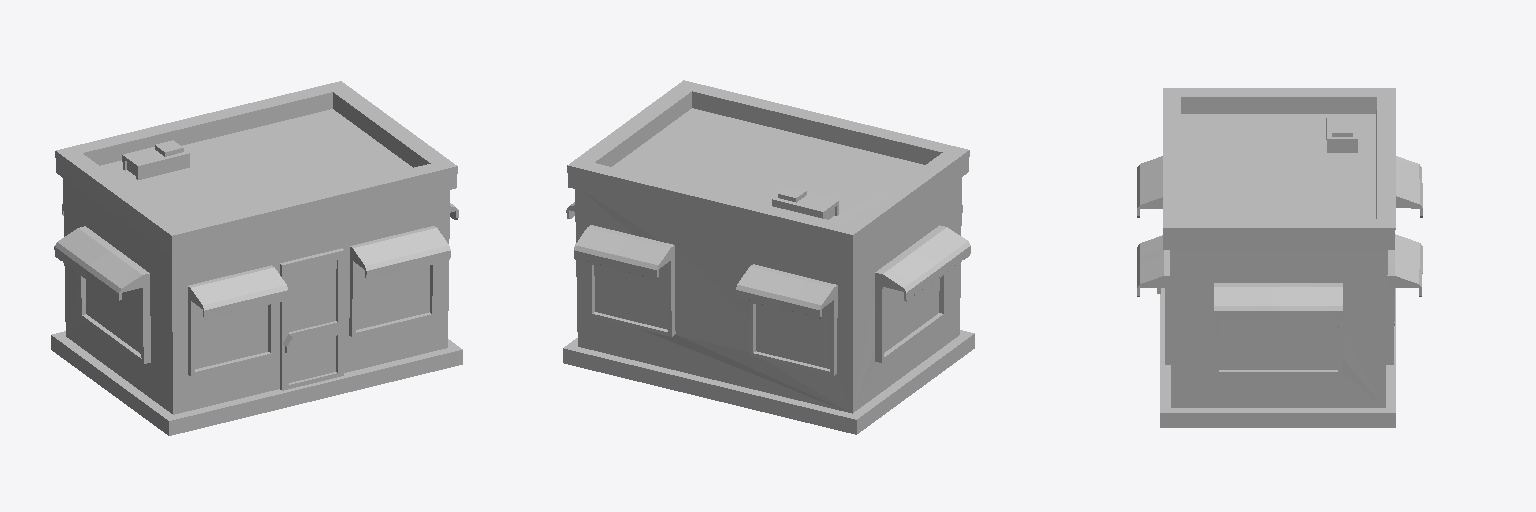
Rendered from shop.obj.
The picture shows the model from 3 angles: view 1: azimuth 30°, elevation 25°; view 2: azimuth 150°, elevation 25°; view 3: azimuth 270°, elevation 25°; orthographic projection.
Visible parts, largest first — view 1: Shop_Cube.006; view 2: Shop_Cube.006; view 3: Shop_Cube.006.
Boxes of the visible parts, x1,y1,x2,y2 form: Shop_Cube.006: [51, 81, 462, 435]; Shop_Cube.006: [563, 80, 974, 434]; Shop_Cube.006: [1137, 88, 1422, 427].
Bounding box in the file's own units: 2.48 × 1.39 × 1.8.